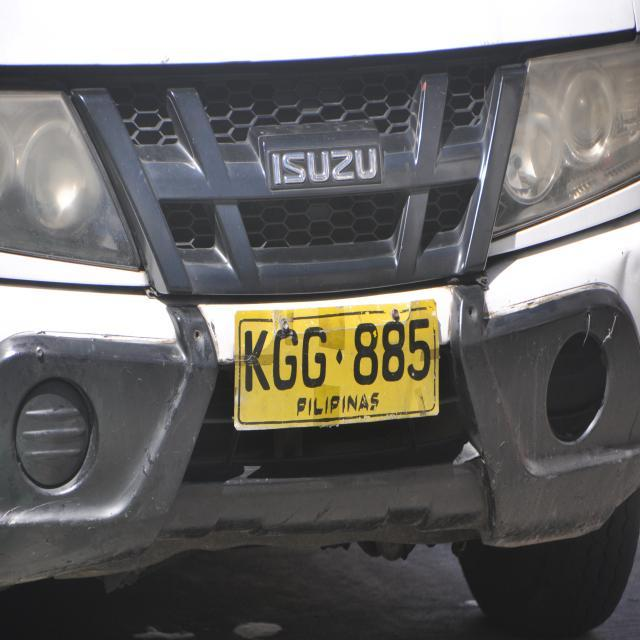LicensePlate: (231, 298, 447, 432)
